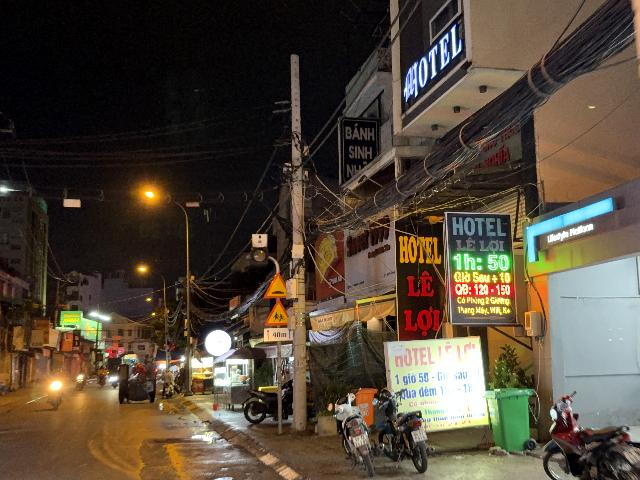duong-co-go-giam-toc: (263, 271, 286, 298)
tre-em-qua-duong: (265, 300, 289, 326)
